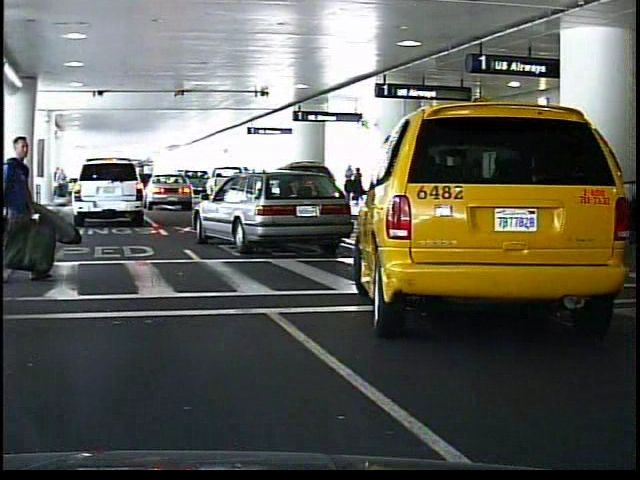person: (5, 131, 53, 286), (342, 163, 353, 200), (353, 165, 362, 202)
